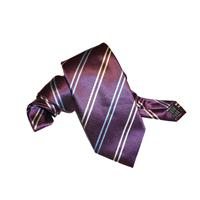tie: (27, 42, 185, 167)
